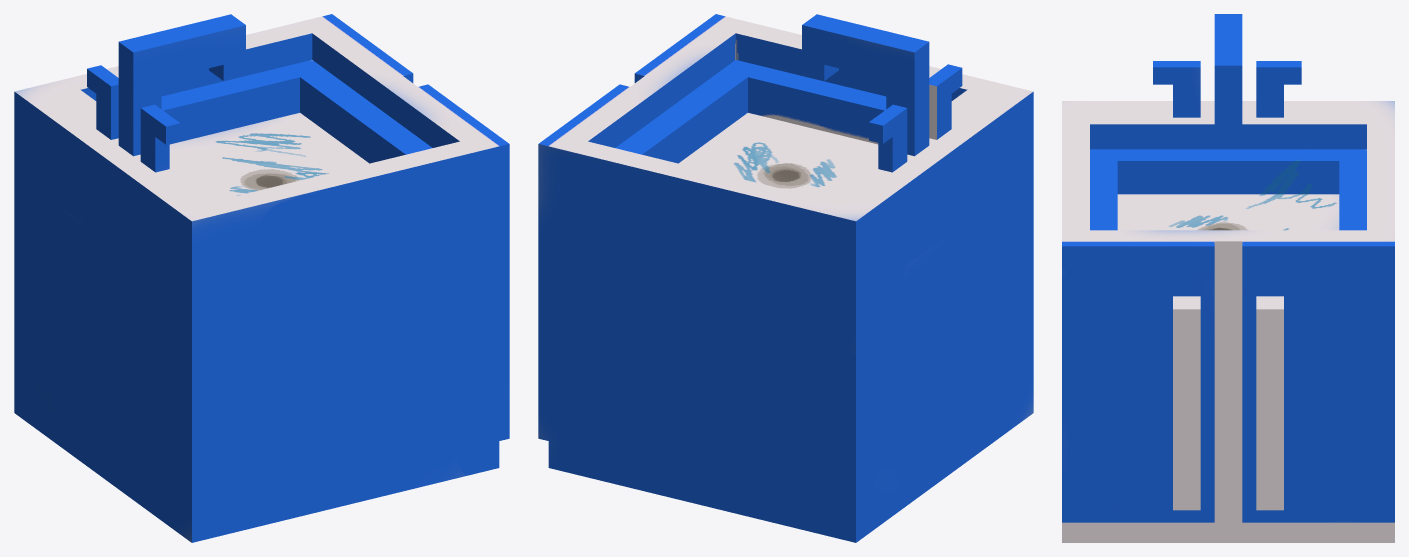
The model's file is Sink.fbx.
The picture shows the model from 3 angles, left to right: view 1: azimuth 30°, elevation 25°; view 2: azimuth 150°, elevation 25°; view 3: azimuth 270°, elevation 25°; orthographic projection. The views are drawn at different scales.
Visible parts, largest first — view 1: Cube; view 2: Cube; view 3: Cube.
Boxes of the visible parts, left/top/right/bottom form: Cube: left=14, top=14, right=509, bottom=542; Cube: left=538, top=14, right=1033, bottom=542; Cube: left=1062, top=14, right=1394, bottom=542.
Size of the model in its own units: 225 by 265 by 200.
